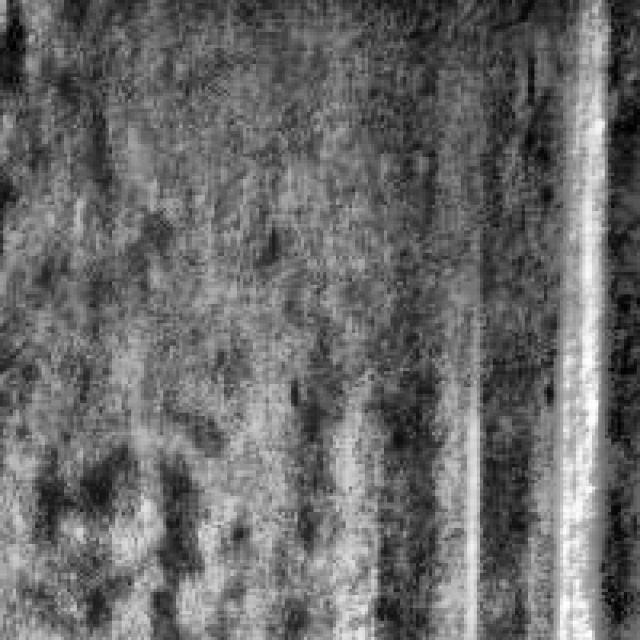Inclusion: (541, 163, 608, 634), (452, 358, 489, 630)
